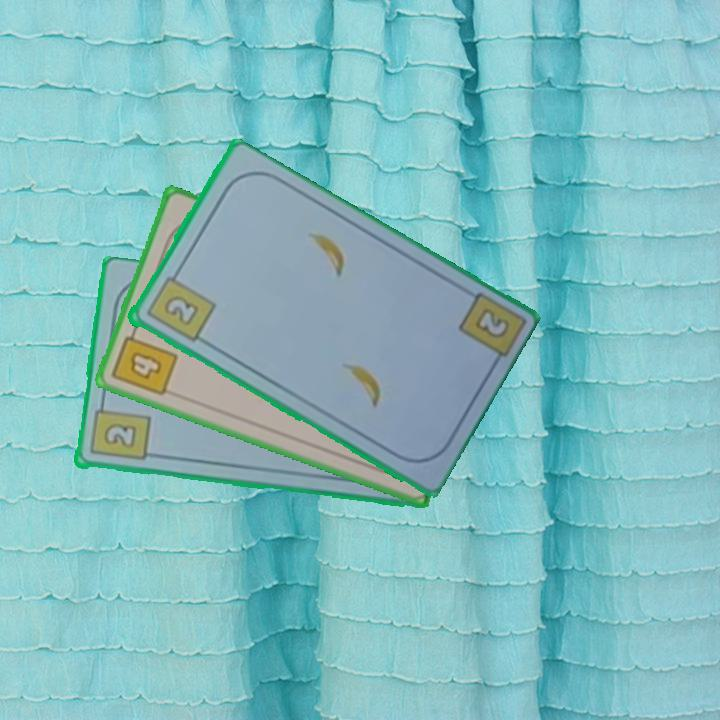2b: (142, 266, 218, 345), (86, 397, 152, 464), (470, 304, 512, 342)
4b: (108, 322, 181, 399)
